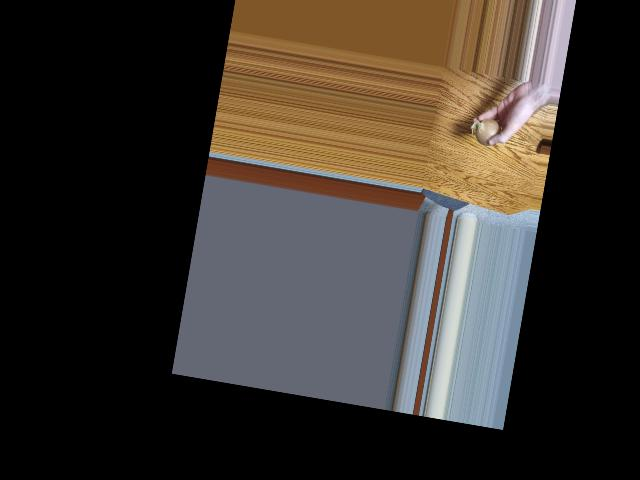onion: (473, 118, 502, 148)
